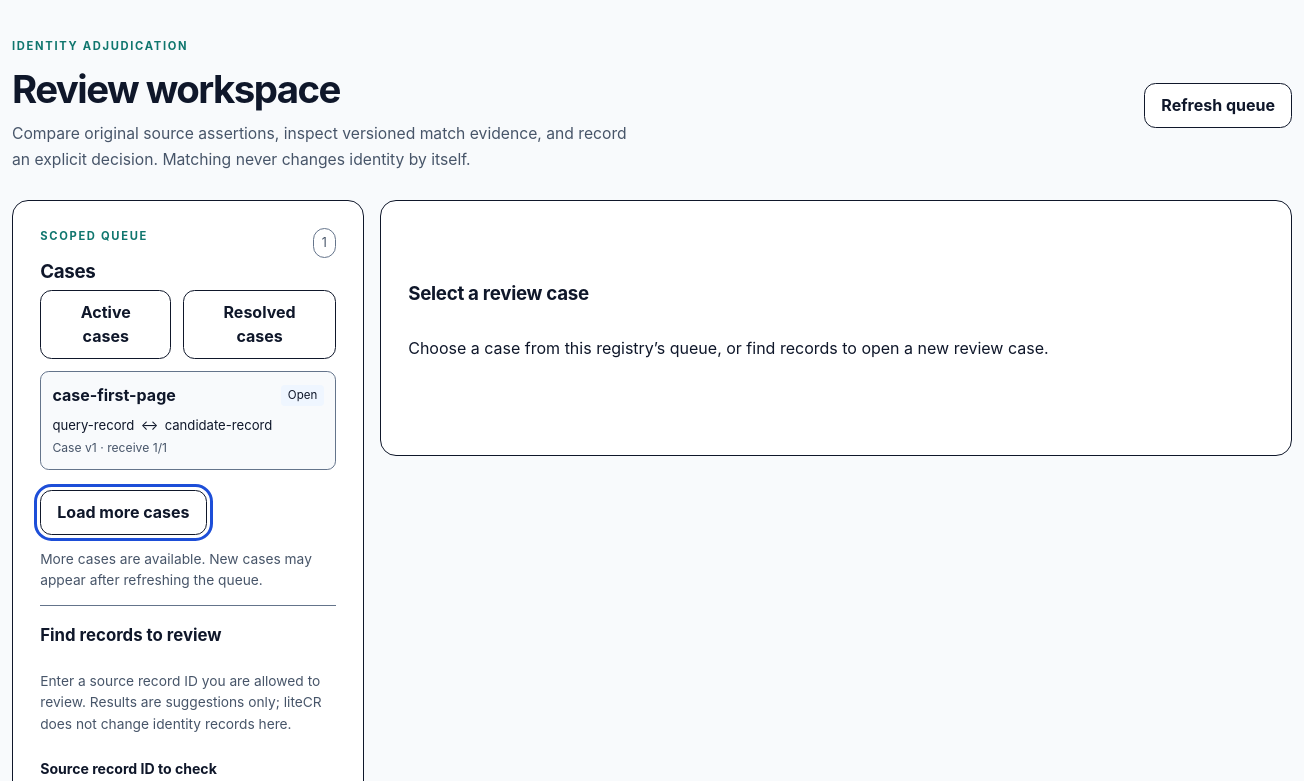
review queue pagination › fetches the continuation cursor and exposes newer cases through a focusable native button
Click the button with class "review-load-more" at (123, 513), box [40, 490, 207, 535]
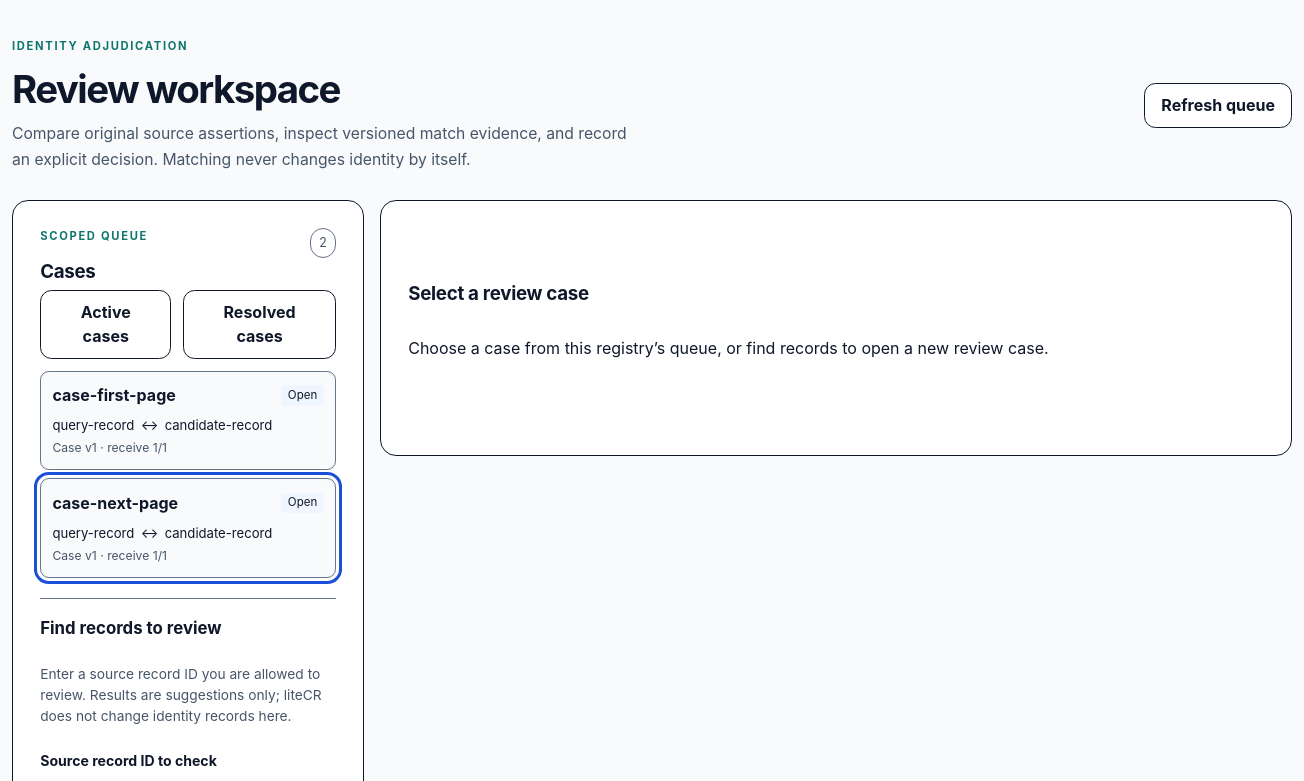
Expected: the text "case-next-page" is shown, [52, 493, 178, 513]
Expected: the button with class "review-load-more" is gone
Click the button "Resolved cases" at (260, 324), box [183, 290, 336, 359]
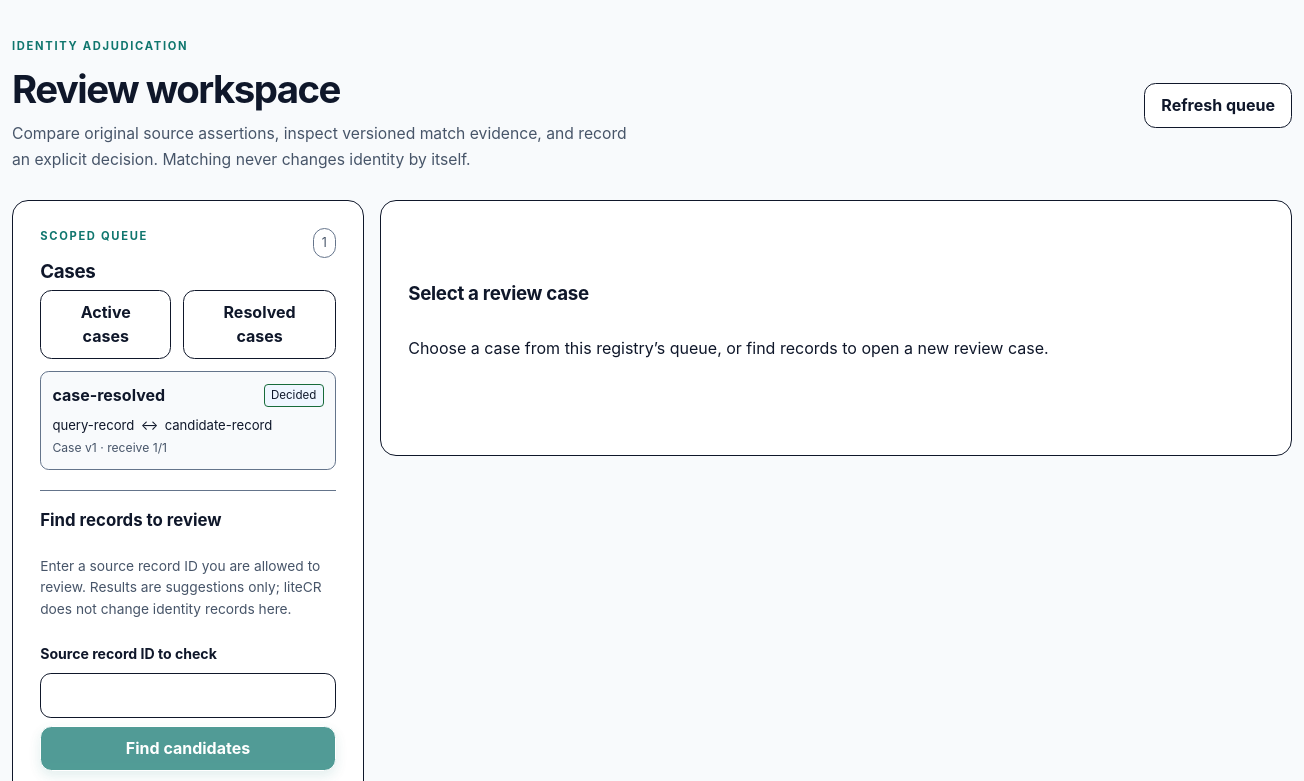
Expected: the text "case-resolved" is shown, [52, 385, 165, 405]
